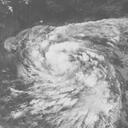cyclone: (8, 23, 110, 103)
